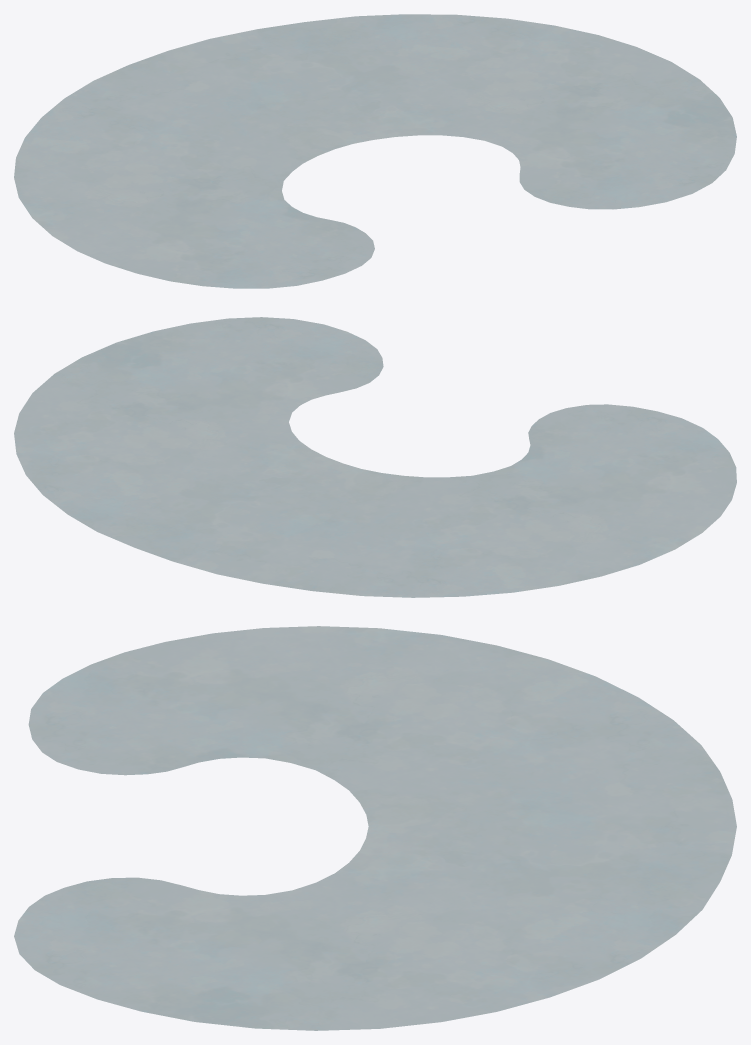
Rendered from mesh_1002_jxl_006_2.FBX.
The picture shows the model from 3 angles, top to bottom: view 1: azimuth 30°, elevation 25°; view 2: azimuth 150°, elevation 25°; view 3: azimuth 270°, elevation 25°; orthographic projection. The views are drawn at different scales.
Visible parts, largest first — view 1: mesh_1002_jxl_006_2; view 2: mesh_1002_jxl_006_2; view 3: mesh_1002_jxl_006_2.
Boxes of the visible parts, box(x1,y1,x2,y2) form: mesh_1002_jxl_006_2: box(14, 14, 736, 288); mesh_1002_jxl_006_2: box(14, 317, 736, 597); mesh_1002_jxl_006_2: box(14, 626, 736, 1030).
Size of the model in its own units: 6328 by 3.05e-05 by 4777.
